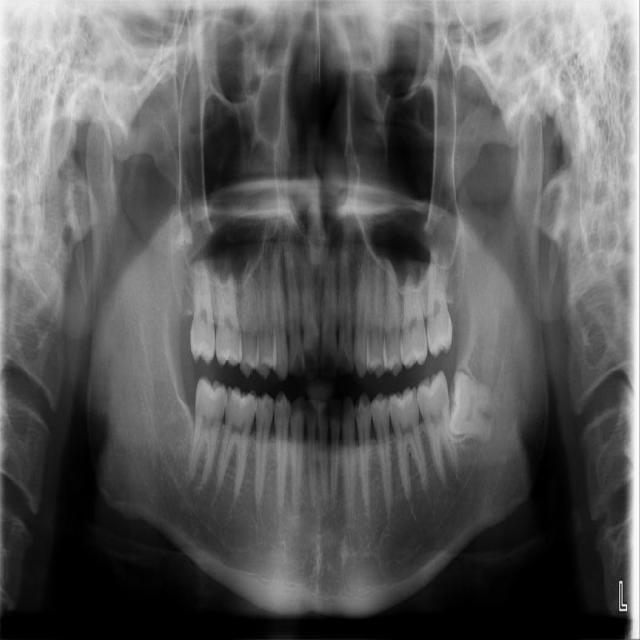impacted tooth: (449, 369, 505, 440)
